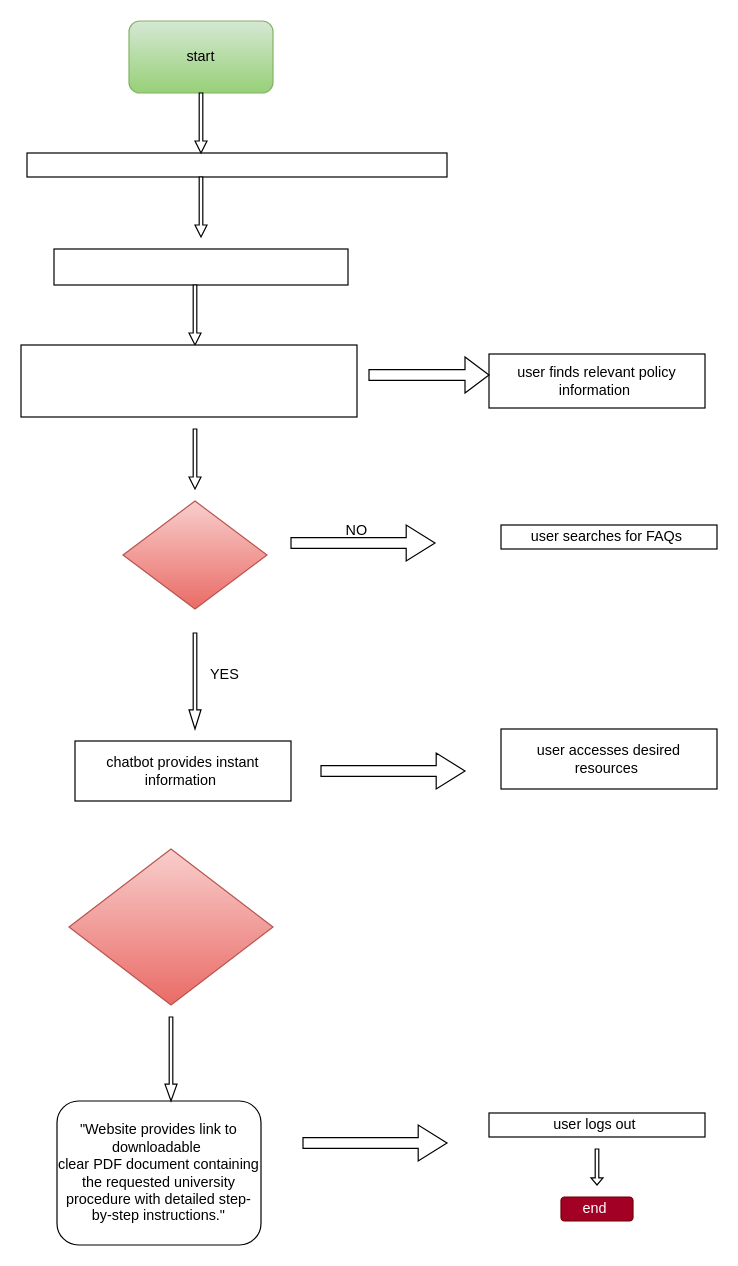
The diagram is 738 pixels wide and 1266 high, and some of its shapes have lost their labels. The shapes that lost their labels are listed below. From the top down, each one's centre as x and y in pixels, then its label:
At (x=236, y=164): "user visits OneStop website".
At (x=200, y=266): "user logs in".
At (x=188, y=380): "user navigates to relevant section for university resources".
At (x=194, y=554): "chatbot option selected ?".
At (x=170, y=926): "user requests procedural request".
